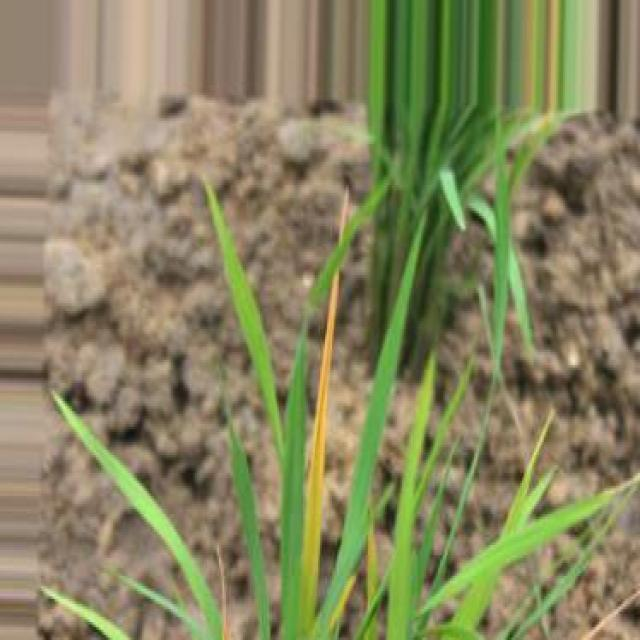Rice Tungro: (301, 270, 338, 636)
